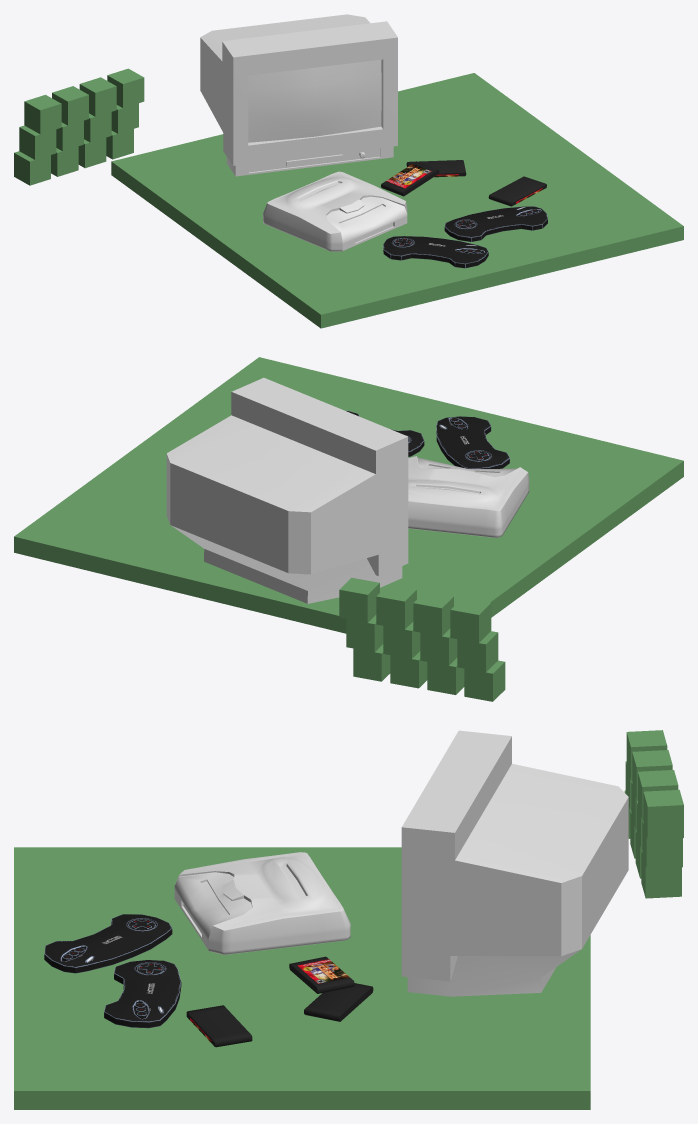
The model's file is megadrive.fbx.
3 renders of one model, top to bottom at view 1: azimuth 30°, elevation 25°; view 2: azimuth 150°, elevation 25°; view 3: azimuth 270°, elevation 25°, orthographic. The views are drawn at different scales.
Parts seen in each view (by area): view 1: Plane, tv, Cube, body_lp, controller, controller.001, cartridge.003, cartridge.002, cartridge.001; view 2: Plane, tv, Cube, body_lp, controller; view 3: Plane, tv, body_lp, Cube, controller, controller.001, cartridge.002, cartridge.001, cartridge.003.
Boxes of the visible parts, <box> form: Plane: <box>111,73,683,328</box>; tv: <box>200,14,397,176</box>; Cube: <box>14,68,144,185</box>; body_lp: <box>263,171,407,251</box>; controller: <box>383,236,488,268</box>; controller.001: <box>444,206,547,241</box>; cartridge.003: <box>381,161,439,196</box>; cartridge.002: <box>488,176,546,206</box>; cartridge.001: <box>406,160,466,177</box>; Plane: <box>14,357,683,633</box>; tv: <box>166,377,408,603</box>; Cube: <box>339,577,505,701</box>; body_lp: <box>408,456,529,537</box>; controller: <box>436,416,509,468</box>; Plane: <box>14,847,590,1109</box>; tv: <box>401,730,628,996</box>; body_lp: <box>174,852,350,954</box>; Cube: <box>624,730,683,898</box>; controller: <box>44,914,172,973</box>; controller.001: <box>104,960,181,1028</box>; cartridge.002: <box>186,1005,252,1047</box>; cartridge.001: <box>304,983,373,1021</box>; cartridge.003: <box>289,956,354,993</box>.
Size of what is drawn, in the model's own units: 99.52 by 30.06 by 96.54.
